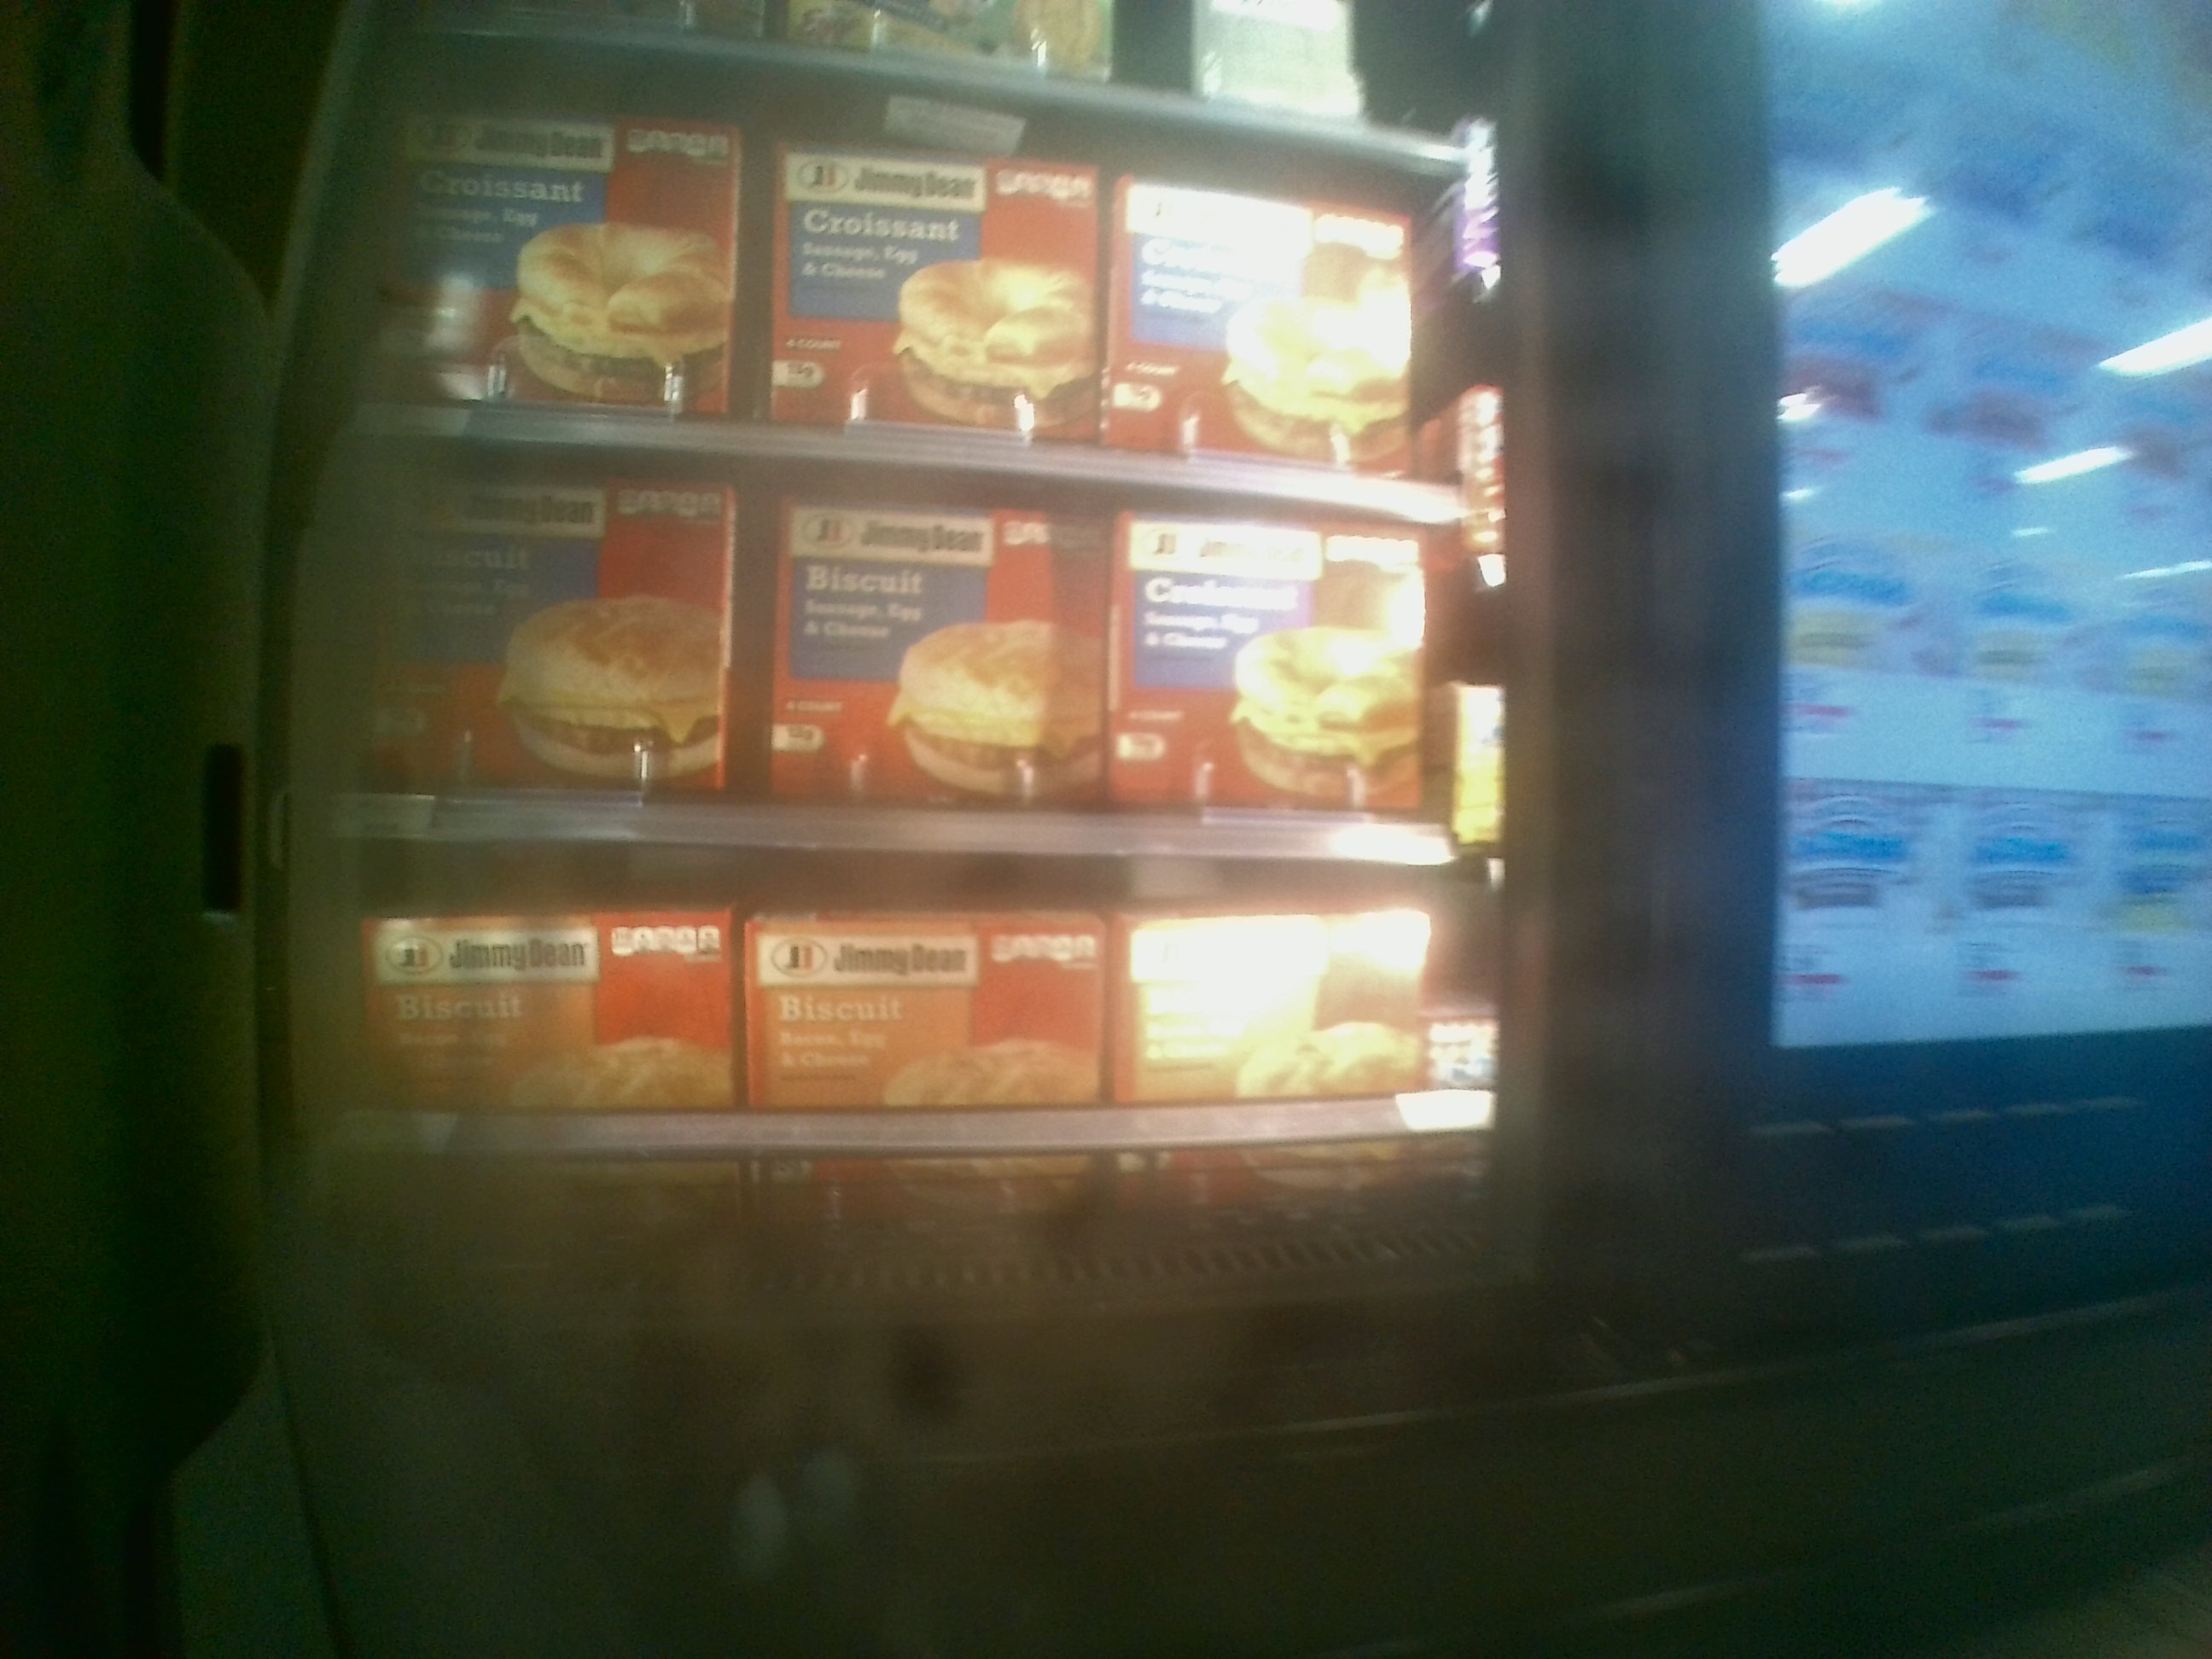shelf: (343, 422, 1493, 857), (331, 843, 1519, 1256)
